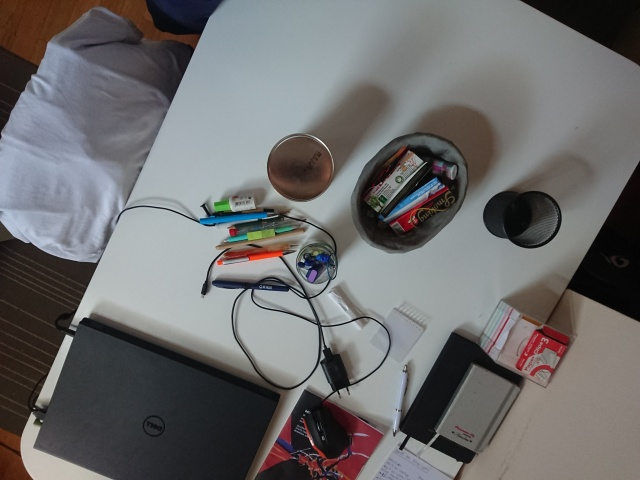Nescafe Classic 225g: (264, 131, 338, 205), (216, 253, 218, 255)
